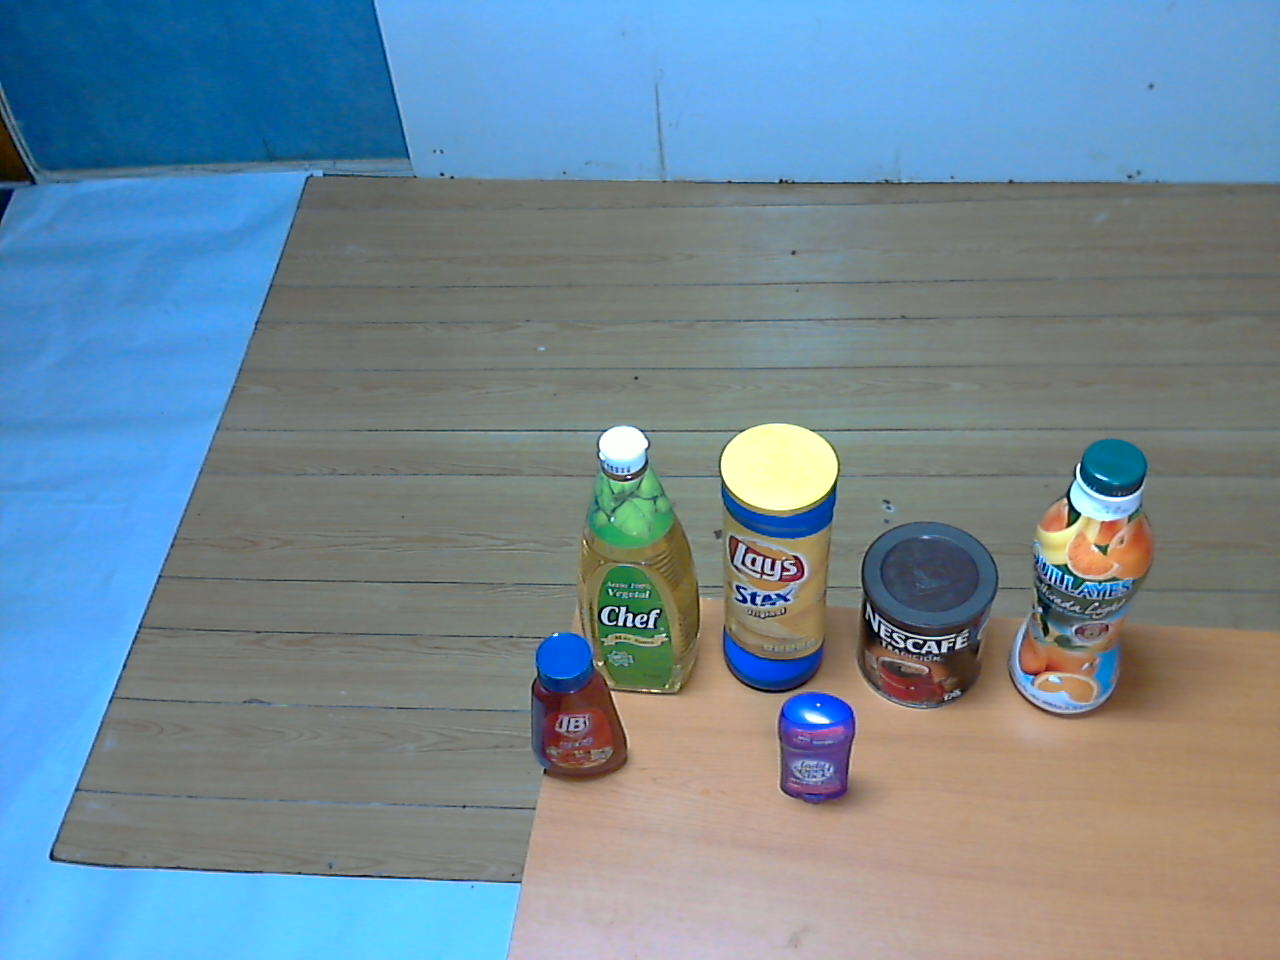aceite: (570, 419, 714, 704)
cafe: (852, 517, 1002, 720)
desodorante: (764, 682, 867, 813)
ketchup: (519, 622, 639, 792)
papas: (698, 413, 842, 701)
yogurt: (999, 435, 1183, 736)
